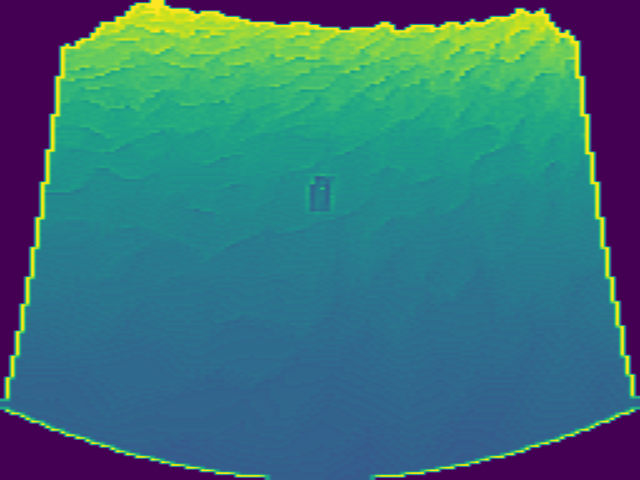car_0198: (306, 173, 333, 216)
